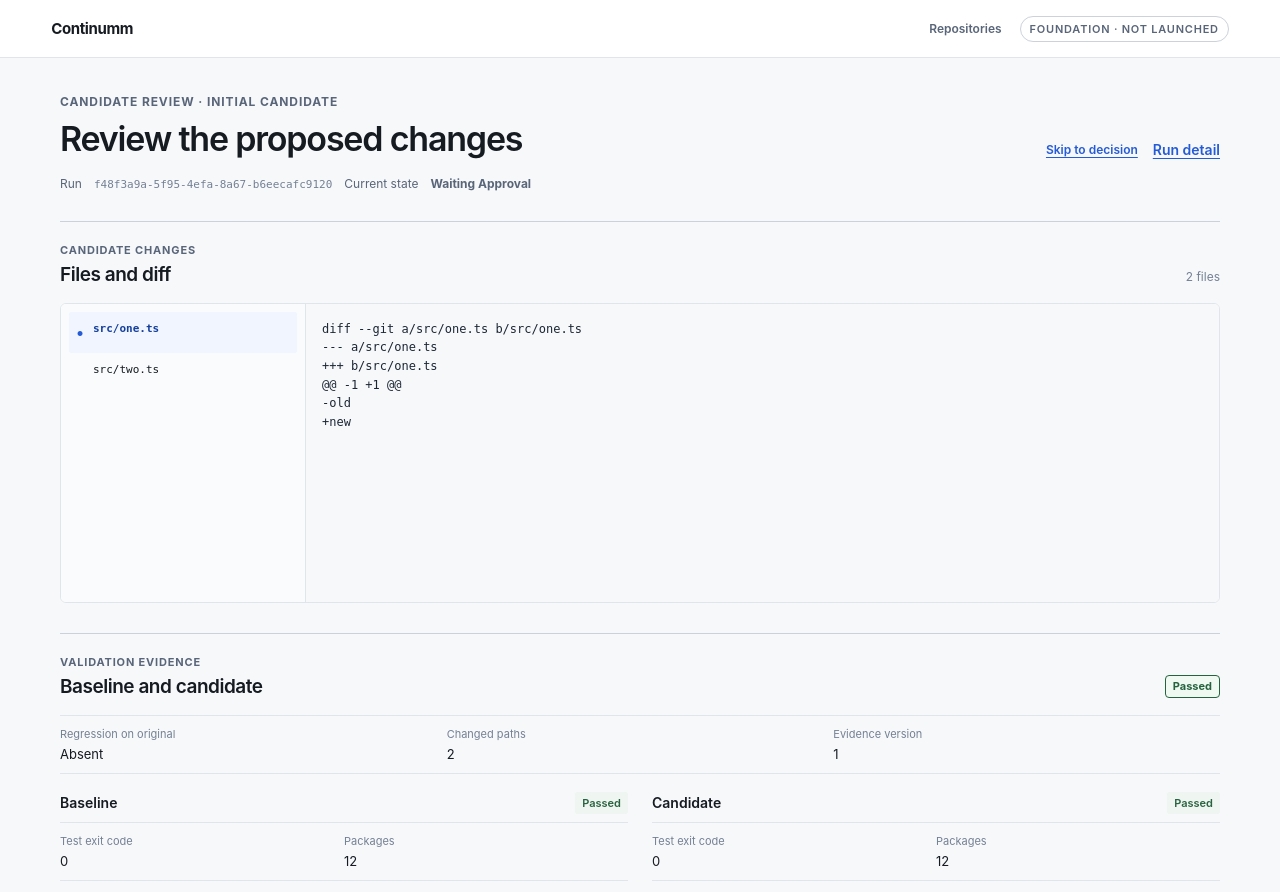
Test case: candidate review › shows file navigation, validation evidence, exact manifest, expiry, and cumulative limits
The width and height of the screenshot is (1280, 892).
Expected: the heading "Review the proposed changes" is shown, top-left (60, 121), bottom-right (522, 158)
Expected: the navigation bar named "Changed files" is shown, top-left (61, 304), bottom-right (306, 602)
Click the button "src/two.ts": (183, 372) top-left (69, 353), bottom-right (297, 391)
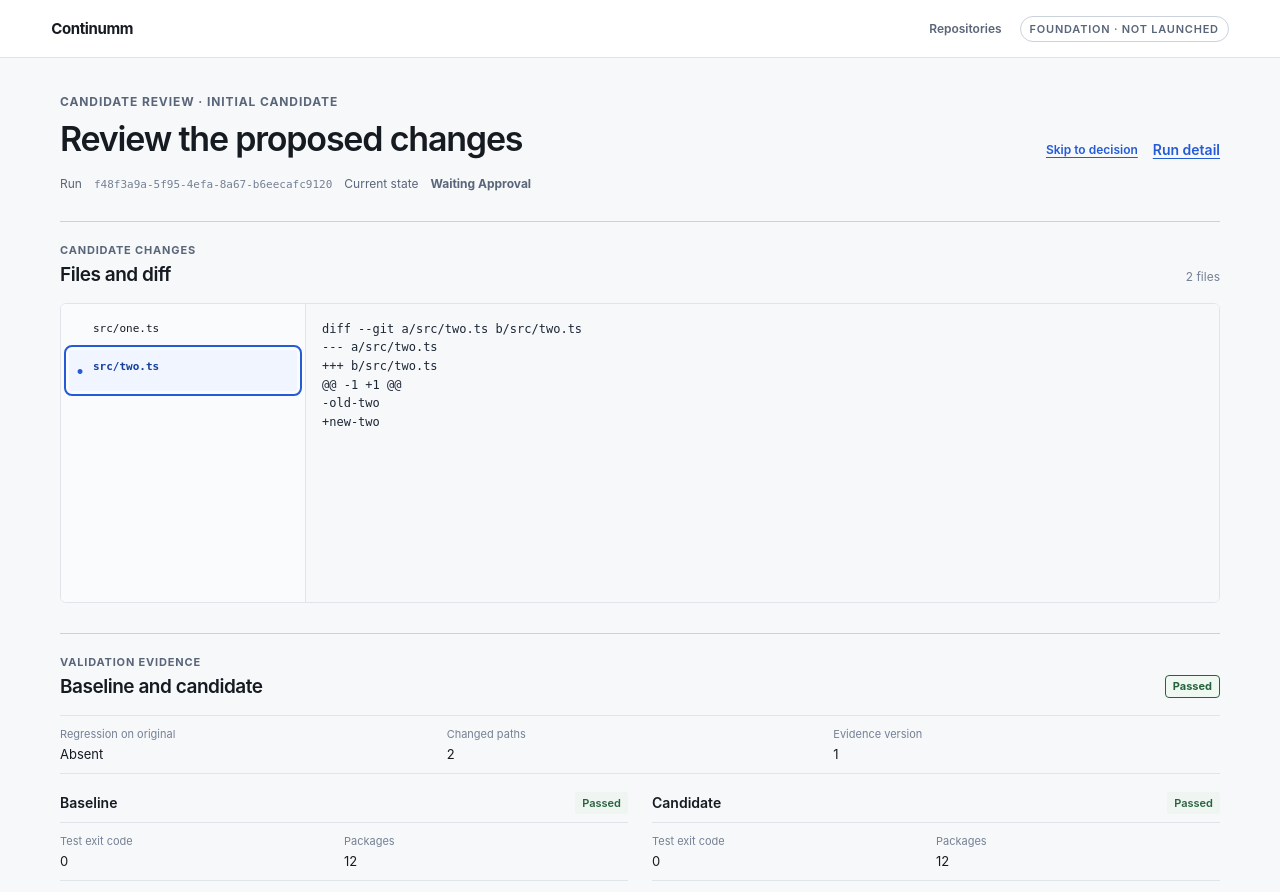
Expected: the text "diff --git a/src/two.ts" is shown, top-left (322, 322), bottom-right (582, 429)
